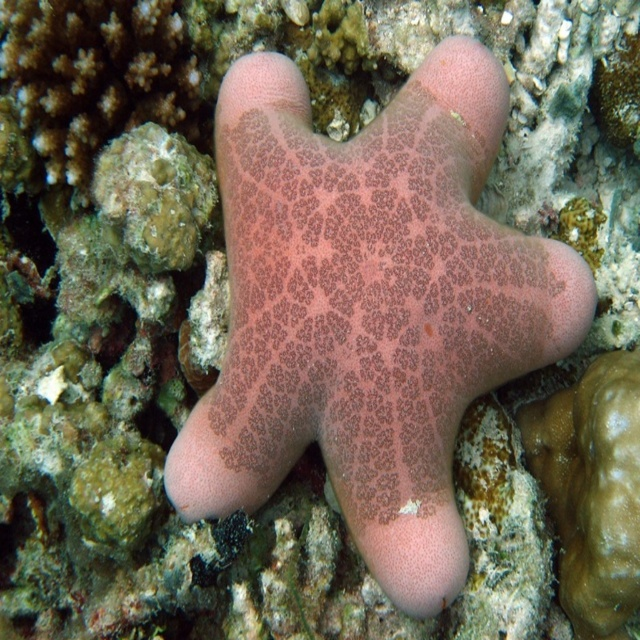Starfish: (164, 35, 597, 618)
